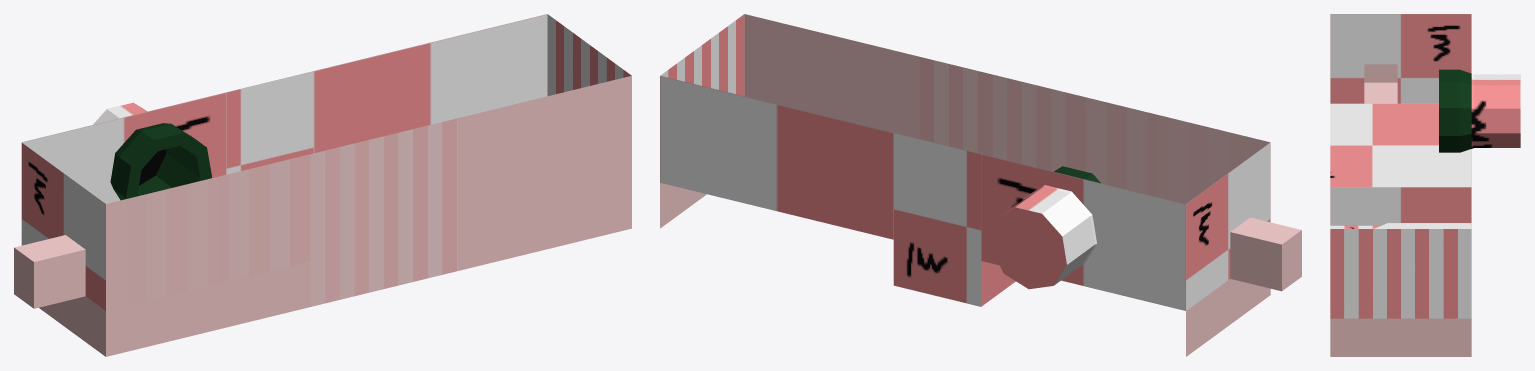
File: Sewer_4.fbx
The picture shows the model from 3 angles, left to right: view 1: azimuth 30°, elevation 25°; view 2: azimuth 150°, elevation 25°; view 3: azimuth 270°, elevation 25°; orthographic projection. The views are drawn at different scales.
Parts seen in each view (by area): view 1: Plane; view 2: Plane; view 3: Plane.
Part boxes in pixels (x1=…): Plane: x1=14, y1=14, x2=631, y2=356; Plane: x1=660, y1=14, x2=1301, y2=356; Plane: x1=1330, y1=14, x2=1520, y2=356.
Size of the model in its own units: 3953 by 1000 by 1348.
